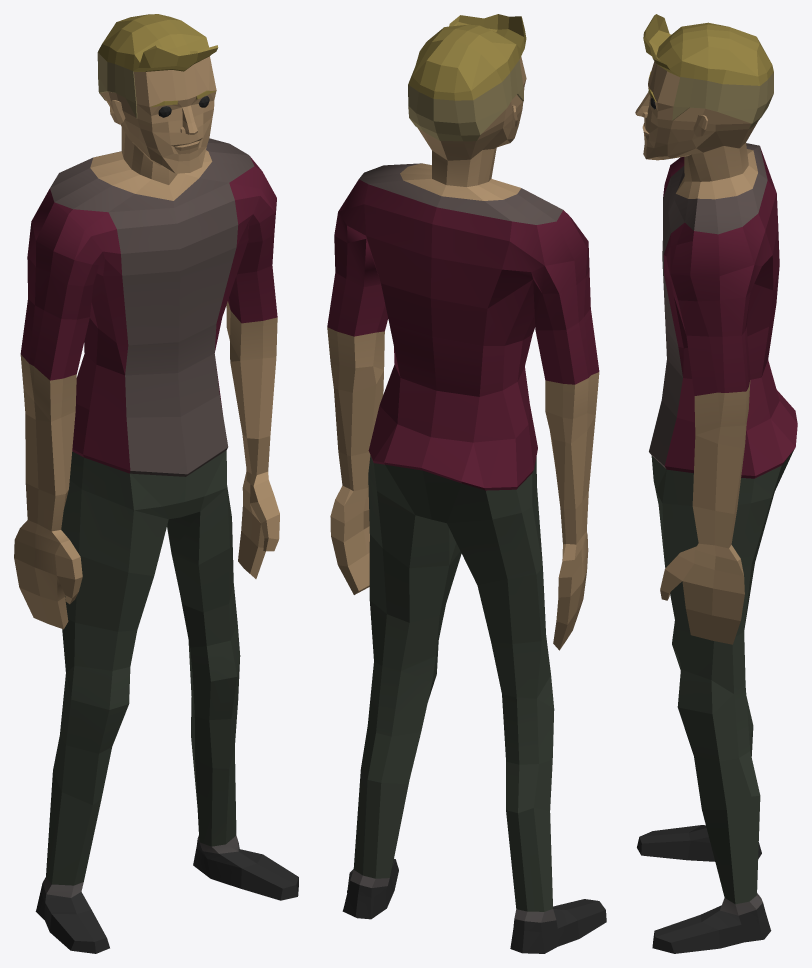
Rendered from civilian-man.glb.
3 views of the same model, side by side, from view 1: azimuth 30°, elevation 25°; view 2: azimuth 150°, elevation 25°; view 3: azimuth 270°, elevation 25° (orthographic). The views are drawn at different scales.
Parts seen in each view (by area): view 1: BaseHuman; view 2: BaseHuman; view 3: BaseHuman.
Boxes of the visible parts, bbox=[...] form: BaseHuman: bbox=[14, 14, 298, 953]; BaseHuman: bbox=[327, 14, 606, 953]; BaseHuman: bbox=[635, 14, 797, 953].
Bounding box in the file's own units: 1.43 × 4.84 × 0.8219.
